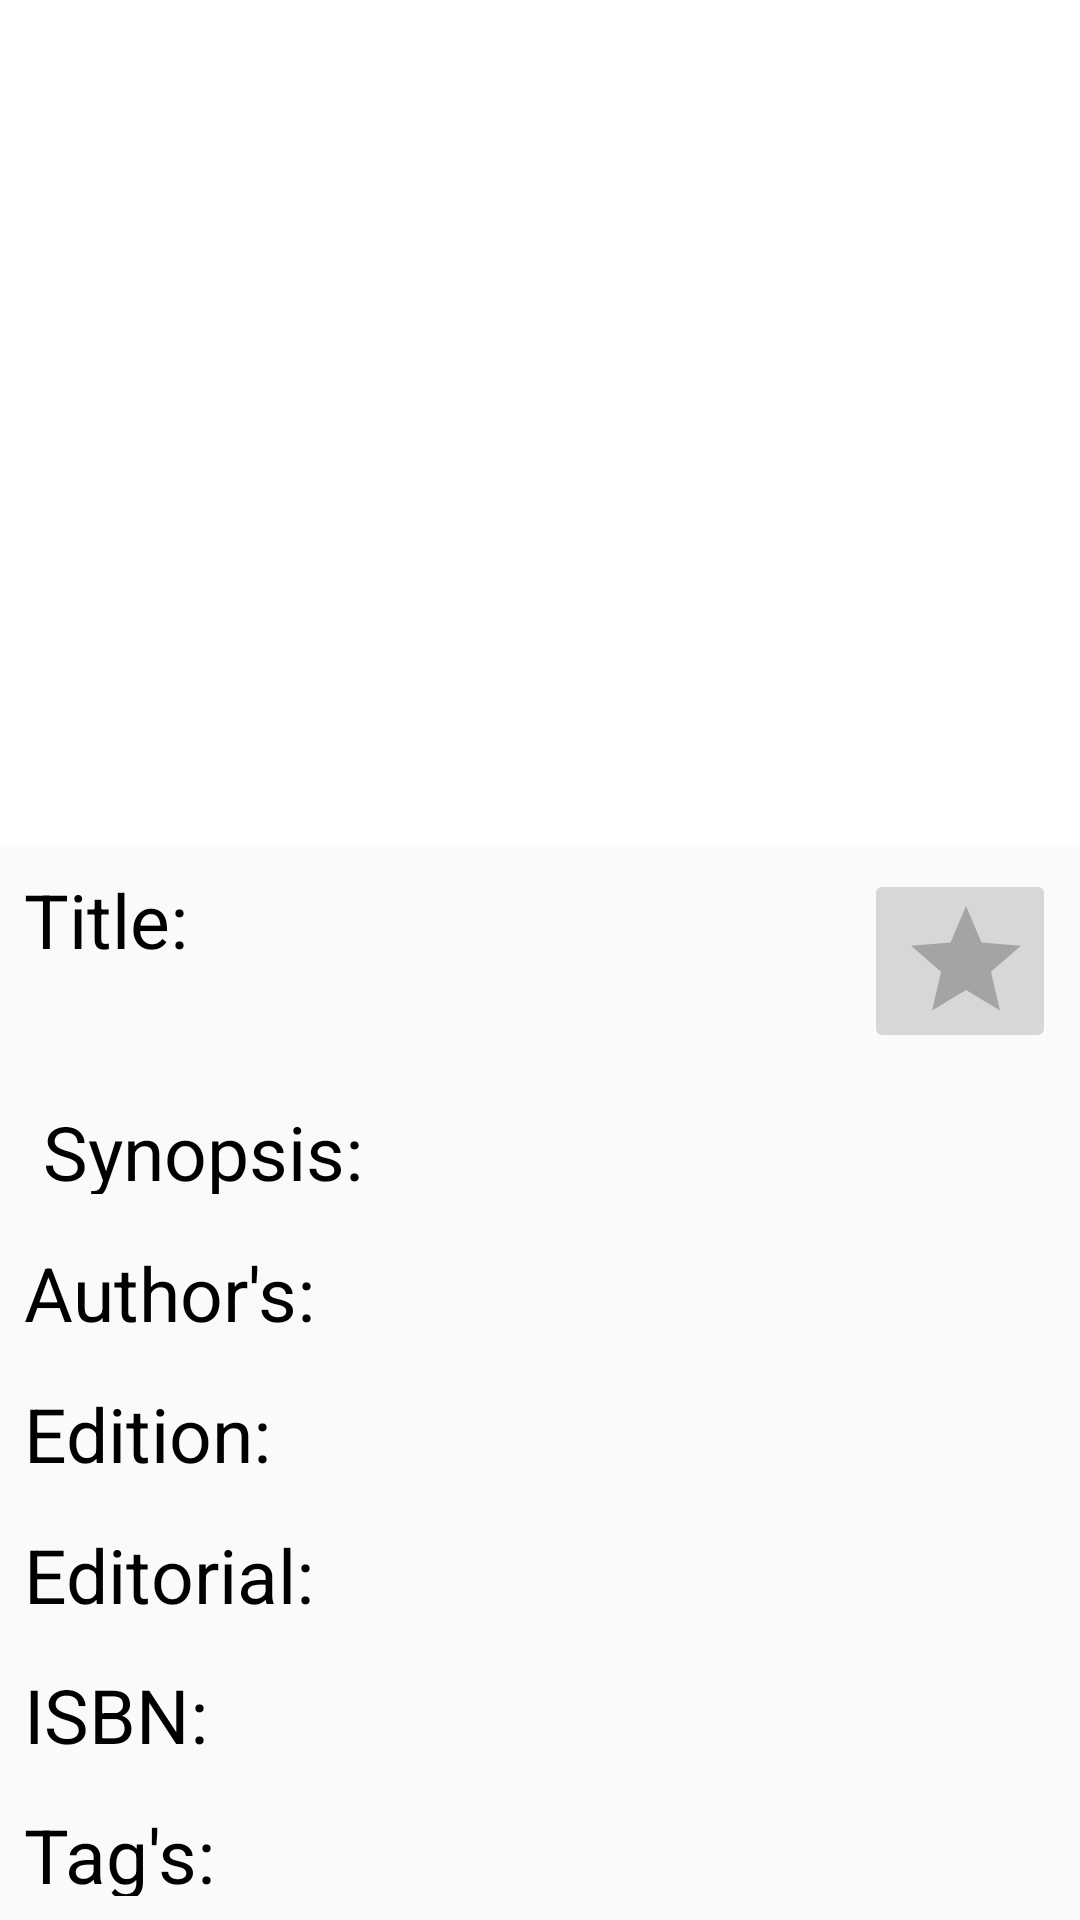

Screen size 1080px x 1920px. Icon name, then its center in pixels as (x=x, y=y):
star border: (x=960, y=961)
